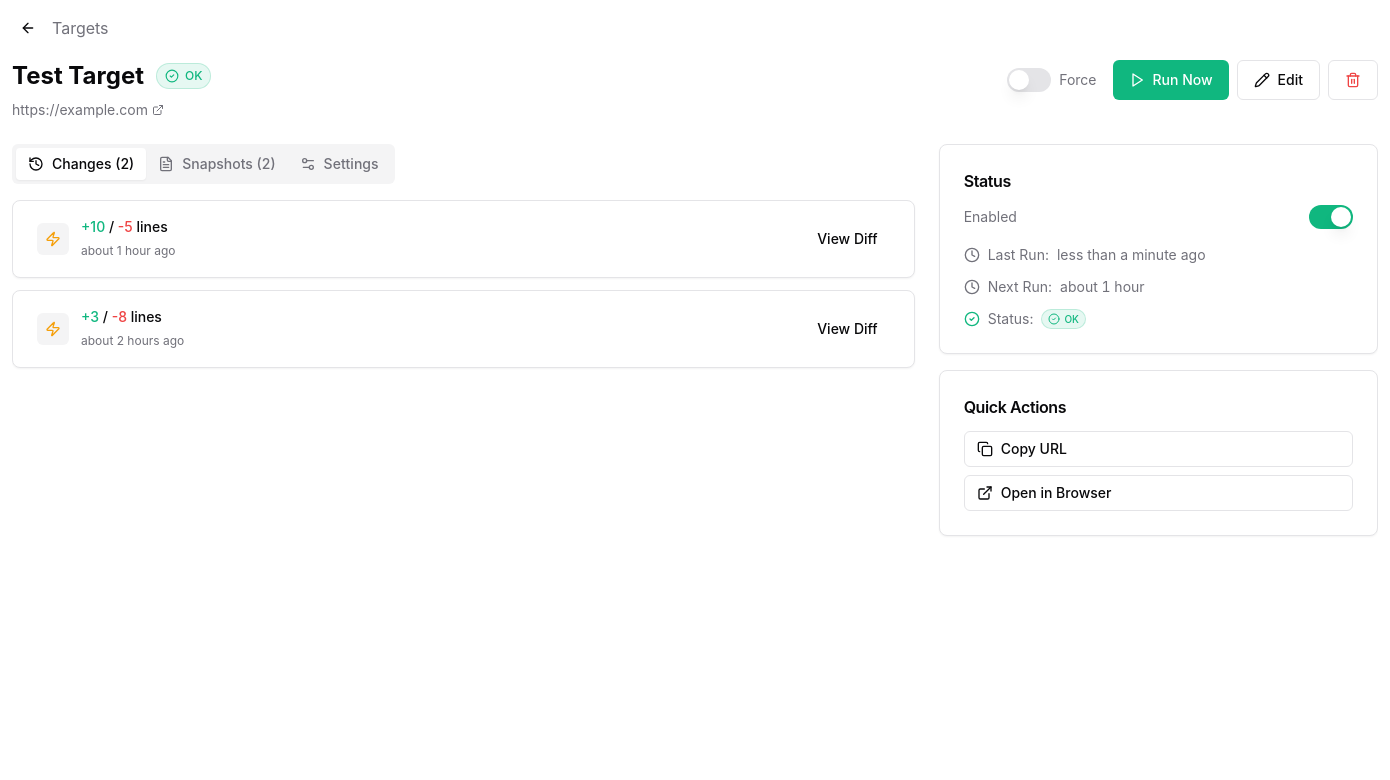
TargetDetail › tabs rendering › should render snapshots tab when clicked
Click the tab "Snapshots (2)". click: (217, 164)
box: [146, 148, 288, 180]
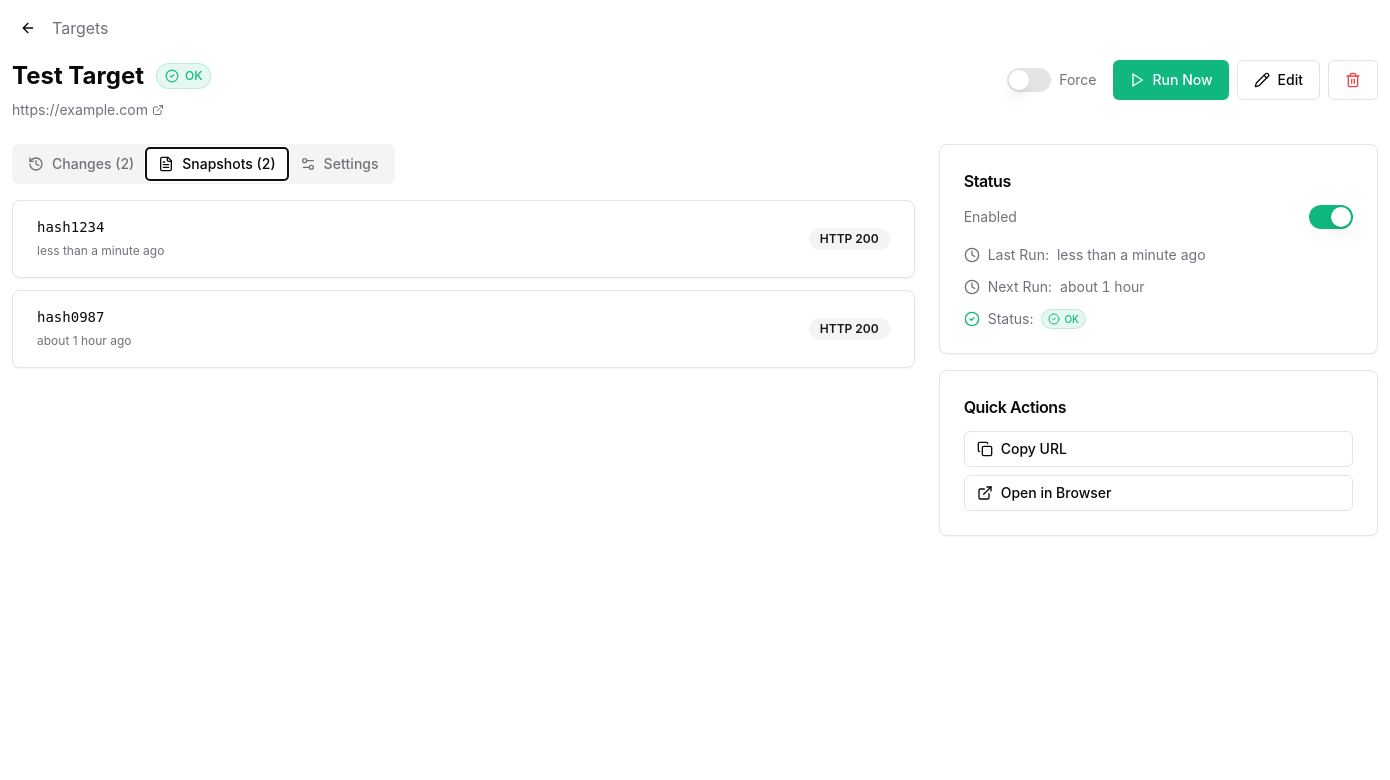
Result: the text "hash1234" is shown at [37, 219, 104, 235]
Result: the text "hash0987" is shown at [37, 309, 104, 325]
